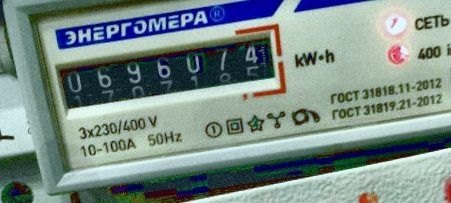0: (61, 67, 84, 93), (182, 47, 201, 74)
4: (239, 39, 258, 63)
5: (244, 63, 262, 81)
6: (153, 51, 174, 80), (93, 62, 113, 88)
7: (212, 44, 232, 71)
9: (123, 57, 142, 85)
screen: (43, 18, 290, 121)
